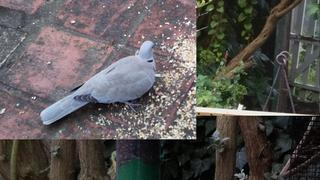collared dove: (40, 40, 156, 125)
